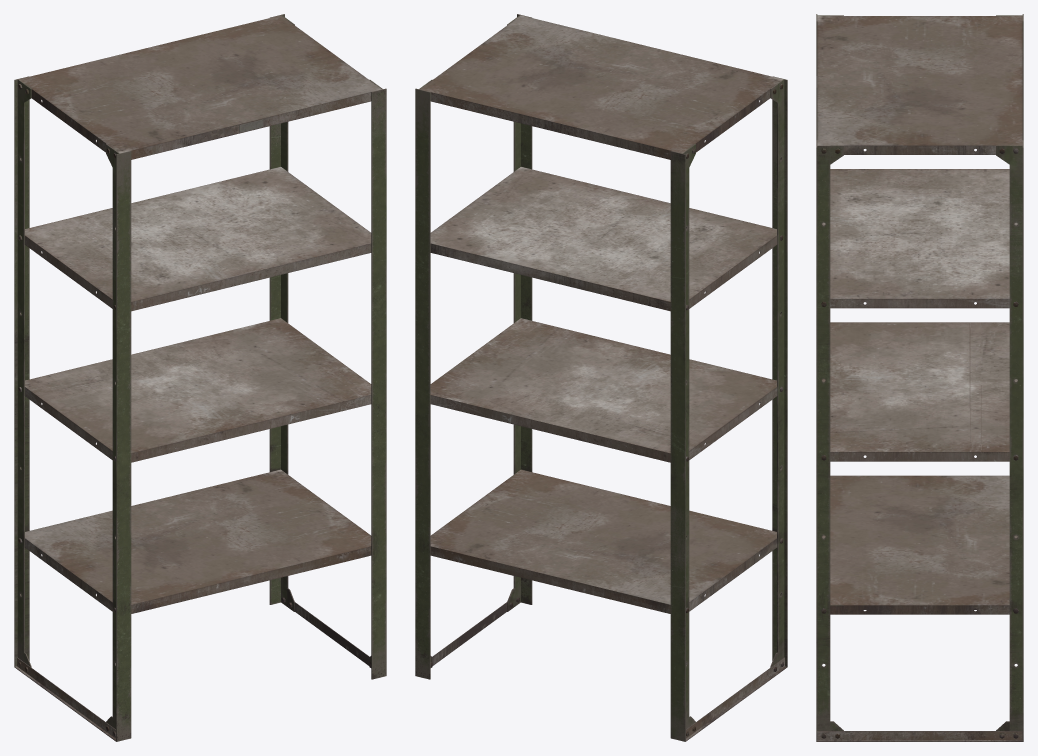
The picture shows the model from 3 angles, left to right: view 1: azimuth 30°, elevation 25°; view 2: azimuth 150°, elevation 25°; view 3: azimuth 270°, elevation 25°; orthographic projection.
Visible parts, largest first — view 1: worn_metal_rack; view 2: worn_metal_rack; view 3: worn_metal_rack.
Part boxes in pixels (box(x1,y1,x2,y2)): worn_metal_rack: box(14, 14, 386, 741); worn_metal_rack: box(415, 14, 787, 741); worn_metal_rack: box(816, 14, 1023, 741).
Size of the model in its own units: 0.9154 by 1.9 by 0.6.
1 material, 1 textured.
